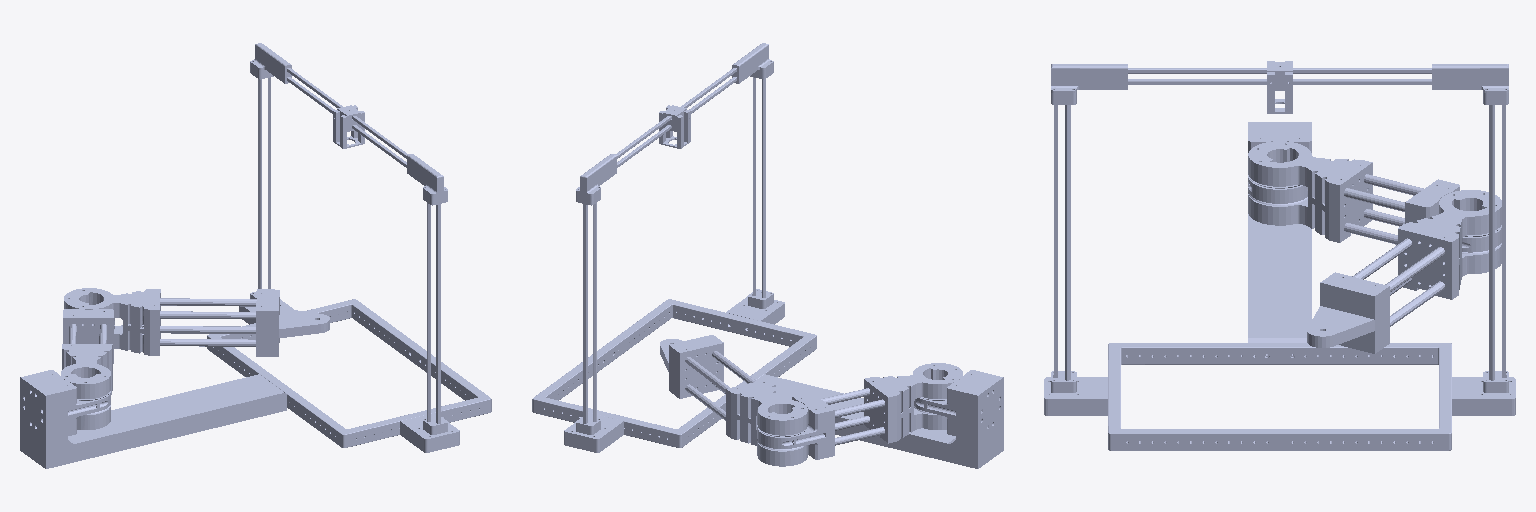
The robot description file, URDF, robot "hitc_robot_description":
<?xml version="1.0"?>
<robot name="hitc_robot_description">
  <link name="base_link">
    <inertial>
      <origin
        xyz="0.401377631632735 -5.42648148638136E-10 -0.0374917413193443"
        rpy="0 0 0" />
      <mass
        value="4.99823696772836" />
      <inertia
        ixx="0.0169614503869467"
        ixy="1.82208114342673E-12"
        ixz="0.00916365672383926"
        iyy="0.0927621254573851"
        iyz="-5.3801530305262E-13"
        izz="0.0980634664778844" />
    </inertial>
    <visual>
      <origin
        xyz="0 0 0"
        rpy="0 0 0" />
      <geometry>
        <mesh
          filename="package://hitc_robot_description/meshes/base_link.STL" />
      </geometry>
      <material
        name="">
        <color
          rgba="0.792156862745098 0.819607843137255 0.933333333333333 1" />
      </material>
    </visual>
    <collision>
      <origin
        xyz="0 0 0"
        rpy="0 0 0" />
      <geometry>
        <mesh
          filename="package://hitc_robot_description/meshes/base_link.STL" />
      </geometry>
    </collision>
  </link>
  <link
    name="link1">
    <inertial>
      <origin
        xyz="0.127456995432329 -3.91852883474542E-10 -0.000990640138830434"
        rpy="0 0 0" />
      <mass
        value="1.72026759907067" />
      <inertia
        ixx="0.00177938153925269"
        ixy="-2.28571691090452E-11"
        ixz="-2.49254882124087E-05"
        iyy="0.00317233587831757"
        iyz="-2.13357891927353E-12"
        izz="0.00368233931714265" />
    </inertial>
    <visual>
      <origin
        xyz="0 0 0"
        rpy="0 0 0" />
      <geometry>
        <mesh
          filename="package://hitc_robot_description/meshes/link1.STL" />
      </geometry>
      <material
        name="">
        <color
          rgba="0.792156862745098 0.819607843137255 0.933333333333333 1" />
      </material>
    </visual>
    <collision>
      <origin
        xyz="0 0 0"
        rpy="0 0 0" />
      <geometry>
        <mesh
          filename="package://hitc_robot_description/meshes/link1.STL" />
      </geometry>
    </collision>
  </link>
  <joint
    name="base_L1"
    type="continuous">
    <origin
      xyz="0.12 0 0"
      rpy="0 0 1.02821445685467" />
    <parent
      link="base_link" />
    <child
      link="link1" />
    <axis
      xyz="0 0 1" />
  </joint>
  <link
    name="link2">
    <inertial>
      <origin
        xyz="0.158530571849047 2.61089622144439E-10 -0.000944098303645058"
        rpy="0 0 0" />
      <mass
        value="1.80507291432319" />
      <inertia
        ixx="0.00178995620687186"
        ixy="-4.12342378852315E-11"
        ixz="-2.49254881484251E-05"
        iyy="0.00368804550872146"
        iyz="-9.95293306947325E-13"
        izz="0.00415400293912304" />
    </inertial>
    <visual>
      <origin
        xyz="0 0 0"
        rpy="0 0 0" />
      <geometry>
        <mesh
          filename="package://hitc_robot_description/meshes/link2.STL" />
      </geometry>
      <material
        name="">
        <color
          rgba="0.792156862745098 0.819607843137255 0.933333333333333 1" />
      </material>
    </visual>
    <collision>
      <origin
        xyz="0 0 0"
        rpy="0 0 0" />
      <geometry>
        <mesh
          filename="package://hitc_robot_description/meshes/link2.STL" />
      </geometry>
    </collision>
  </link>
  <joint
    name="L1-L2"
    type="continuous">
    <origin
      xyz="0.349999999999999 0 0"
      rpy="0 0 -1.5707963267949" />
    <parent
      link="link1" />
    <child
      link="link2" />
    <axis
      xyz="0 0 1" />
  </joint>
</robot>

--- What the picture shows (computed from the rendered views, not written in the file) ---
The picture shows the robot from 3 angles, left to right: view 1: azimuth 30°, elevation 25°; view 2: azimuth 150°, elevation 25°; view 3: azimuth 270°, elevation 25°; orthographic projection.
Robot: hitc_robot_description — 3 links, 2 joints (2 continuous); root link base_link; default pose: every joint at zero.
Links seen in each view (by area): view 1: base_link, link2, link1; view 2: base_link, link2, link1; view 3: base_link, link2, link1.
Link boxes in pixels (<box>): base_link: <box>20,43,491,468</box>; link2: <box>64,288,329,356</box>; link1: <box>61,309,114,429</box>; base_link: <box>532,43,1003,468</box>; link2: <box>660,335,807,466</box>; link1: <box>757,363,962,459</box>; base_link: <box>1044,61,1515,450</box>; link2: <box>1307,190,1501,353</box>; link1: <box>1248,141,1501,252</box>.
Bounding box of the posed robot: 0.89 × 0.74 × 0.595 m (x, y, z).
3 mesh visuals loaded from 3 distinct referenced files (3 binary STL).